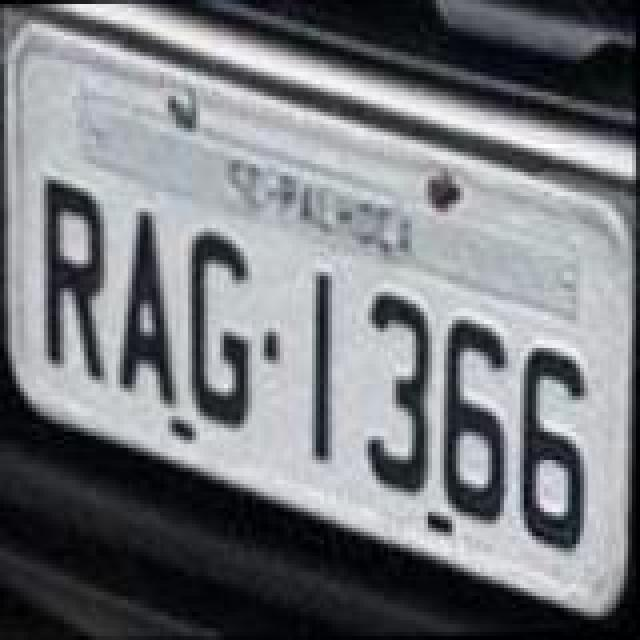1: (304, 264, 340, 468)
3: (360, 288, 440, 496)
6: (516, 342, 596, 554), (438, 314, 514, 526)
A: (114, 204, 186, 408)
G: (184, 226, 260, 430)
R: (40, 170, 116, 382)
